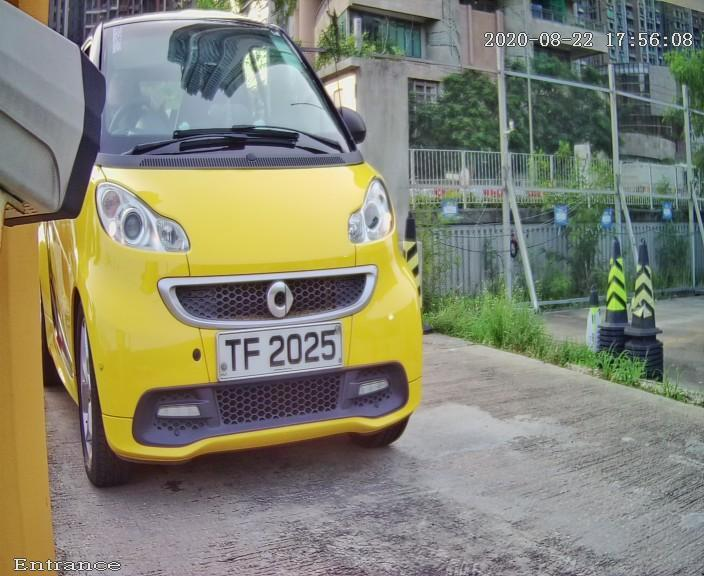Car: (16, 8, 431, 507)
License Plate: (204, 306, 365, 389)
